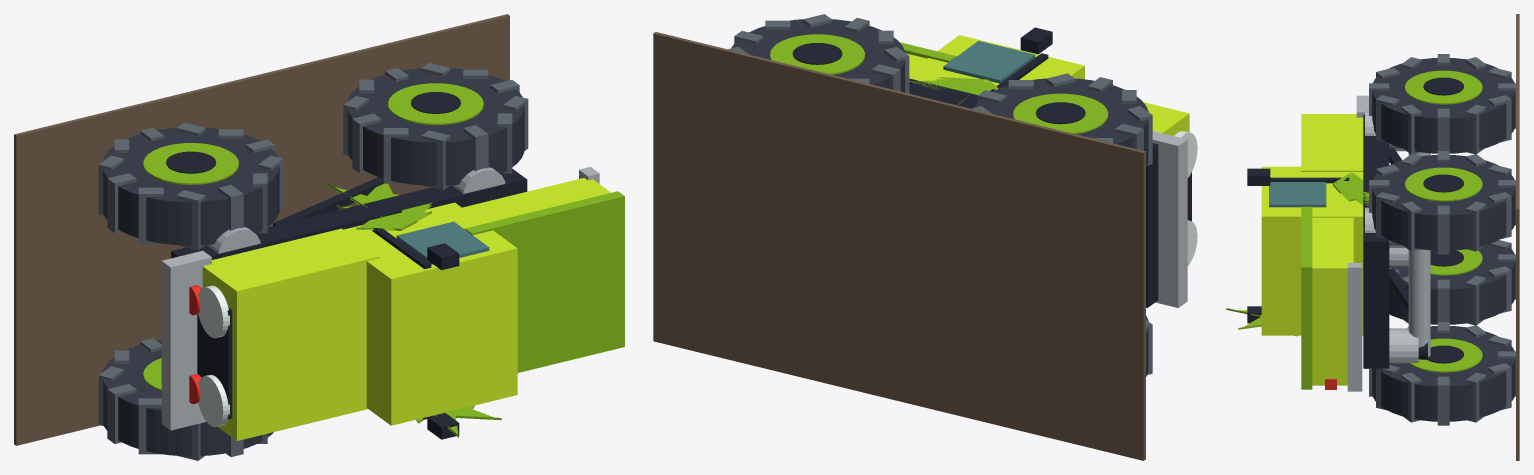
The model's file is monster_truck.glb.
3 views of the same model, side by side, from view 1: azimuth 30°, elevation 25°; view 2: azimuth 150°, elevation 25°; view 3: azimuth 270°, elevation 25° (orthographic). The views are drawn at different scales.
Parts seen in each view (by area): view 1: ground, hood, cab, bed rail, oversized tire_3, oversized tire_1, front bumper, oversized tire, ladder chassis, pickup bed, lime wheel rim_1, lime wheel rim_3 (+22 smaller); view 2: ground, front bumper, oversized tire_1, oversized tire_3, ladder chassis, cab, side window_1, lime wheel rim_1, lime wheel rim_3, hood, wheel hub_1, wheel hub_3 (+2 smaller); view 3: cab, oversized tire_1, oversized tire_3, oversized tire_2, pickup bed, ladder chassis, oversized tire, hood, bed rail, solid axle_1, rear bumper, ground (+33 smaller).
Part boxes in pixels (x1,y1,x2,y2): ground: (14, 14, 509, 445); hood: (202, 228, 379, 440); cab: (344, 202, 517, 425); bed rail: (465, 191, 624, 372); oversized tire_3: (347, 68, 524, 185); oversized tire_1: (102, 127, 279, 245); front bumper: (161, 250, 211, 430); oversized tire: (102, 340, 273, 456); ladder chassis: (171, 169, 527, 259); pickup bed: (462, 178, 610, 223); lime wheel rim_1: (143, 143, 238, 184); lime wheel rim_3: (388, 83, 483, 125); ground: (653, 32, 1145, 460); front bumper: (1152, 131, 1187, 307); oversized tire_1: (974, 78, 1148, 167); oversized tire_3: (731, 19, 905, 92); ladder chassis: (909, 78, 1158, 307); cab: (909, 35, 1084, 86); side window_1: (943, 41, 1035, 83); lime wheel rim_1: (1013, 93, 1108, 134); lime wheel rim_3: (770, 34, 864, 74); hood: (1143, 102, 1189, 135); wheel hub_1: (1035, 102, 1085, 124); wheel hub_3: (792, 42, 842, 64); cab: (1261, 166, 1363, 335); oversized tire_1: (1372, 58, 1515, 153); oversized tire_3: (1372, 155, 1515, 250); oversized tire_2: (1372, 326, 1515, 421); pickup bed: (1312, 217, 1353, 385); ladder chassis: (1363, 114, 1389, 368); oversized tire: (1389, 244, 1515, 324); hood: (1301, 114, 1363, 171); bed rail: (1301, 206, 1312, 389); solid axle_1: (1408, 249, 1430, 359); rear bumper: (1347, 263, 1362, 391); ground: (1516, 14, 1519, 460).
Size of the model in its own units: 5 by 3 by 3.17.
